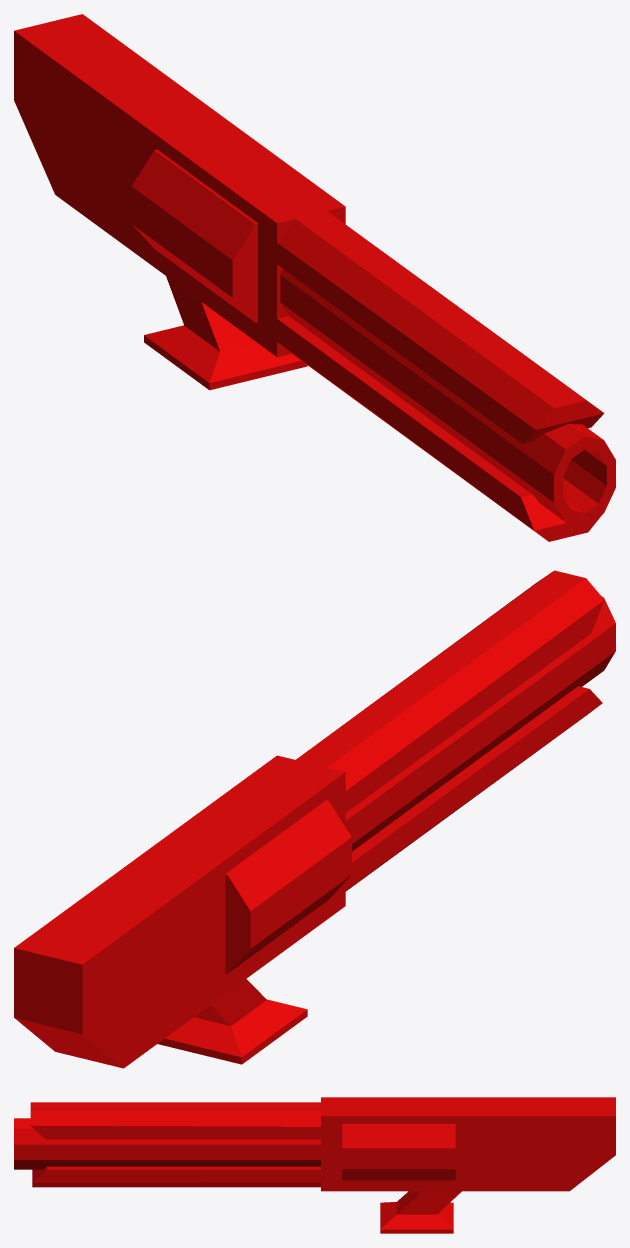
Rendered from AW_Gun_prot.fbx.
3 renders of one model, top to bottom at view 1: azimuth 30°, elevation 25°; view 2: azimuth 150°, elevation 25°; view 3: azimuth 270°, elevation 25°, orthographic. The views are drawn at different scales.
Parts seen in each view (by area): view 1: Cube; view 2: Cube; view 3: Cube.
Boxes of the visible parts, x1,y1,x2,y2 form: Cube: (14,14,615,541); Cube: (14,570,615,1068); Cube: (14,1097,615,1233).
Bounding box in the file's own units: 0.6069 × 0.9851 × 4.74.
